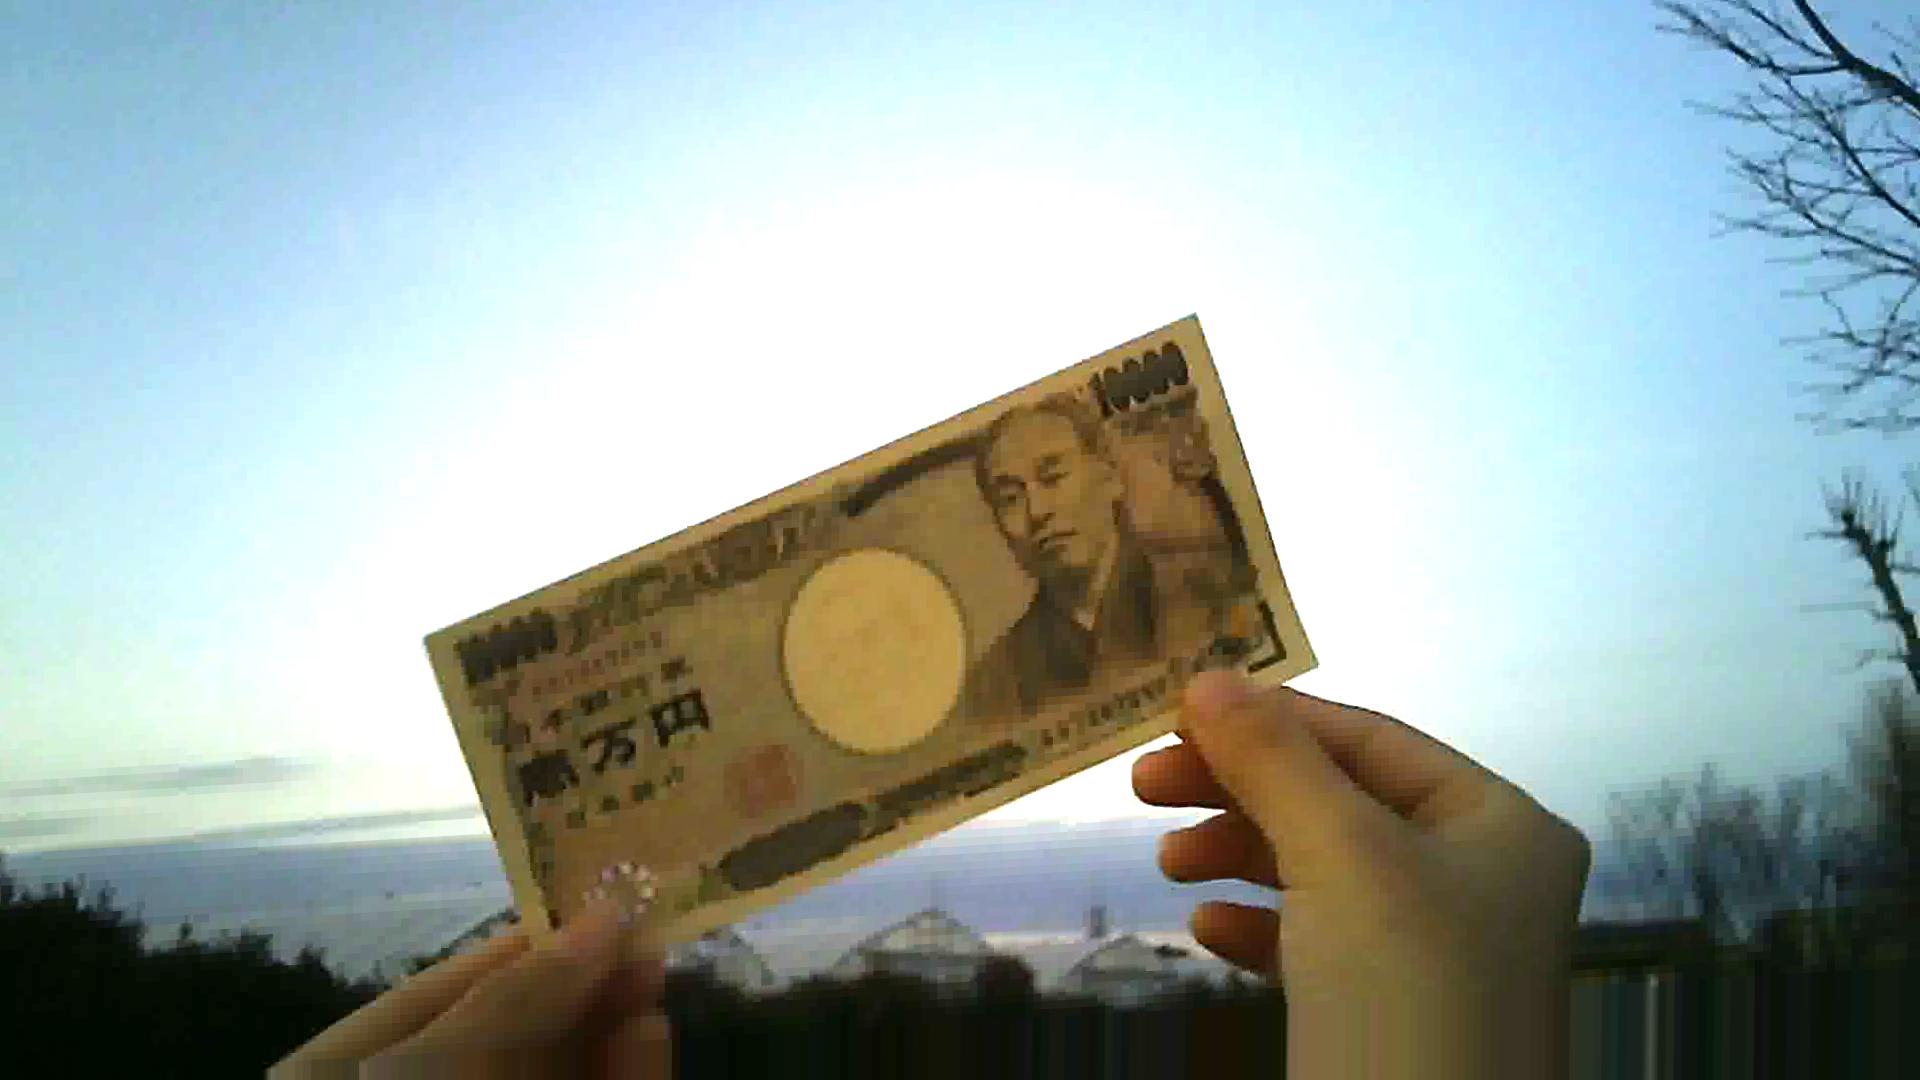10,000 Yen: (415, 315, 1305, 939)
